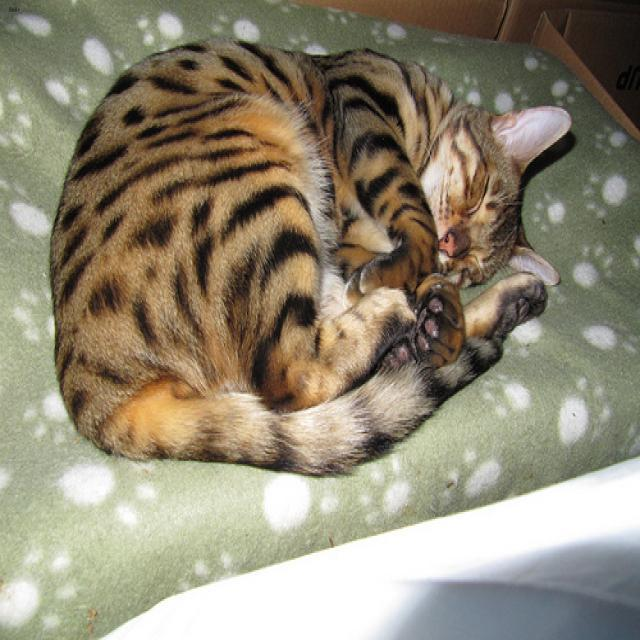Bengal: (391, 73, 567, 300)
